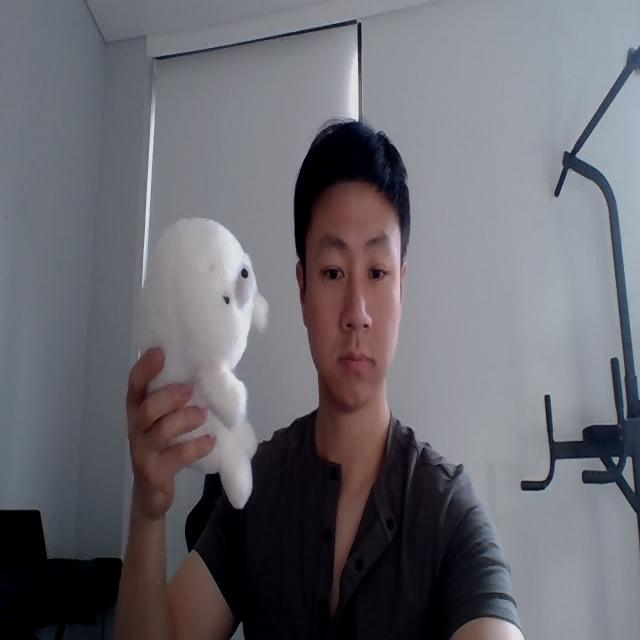seal_bb: (137, 216, 269, 512)
